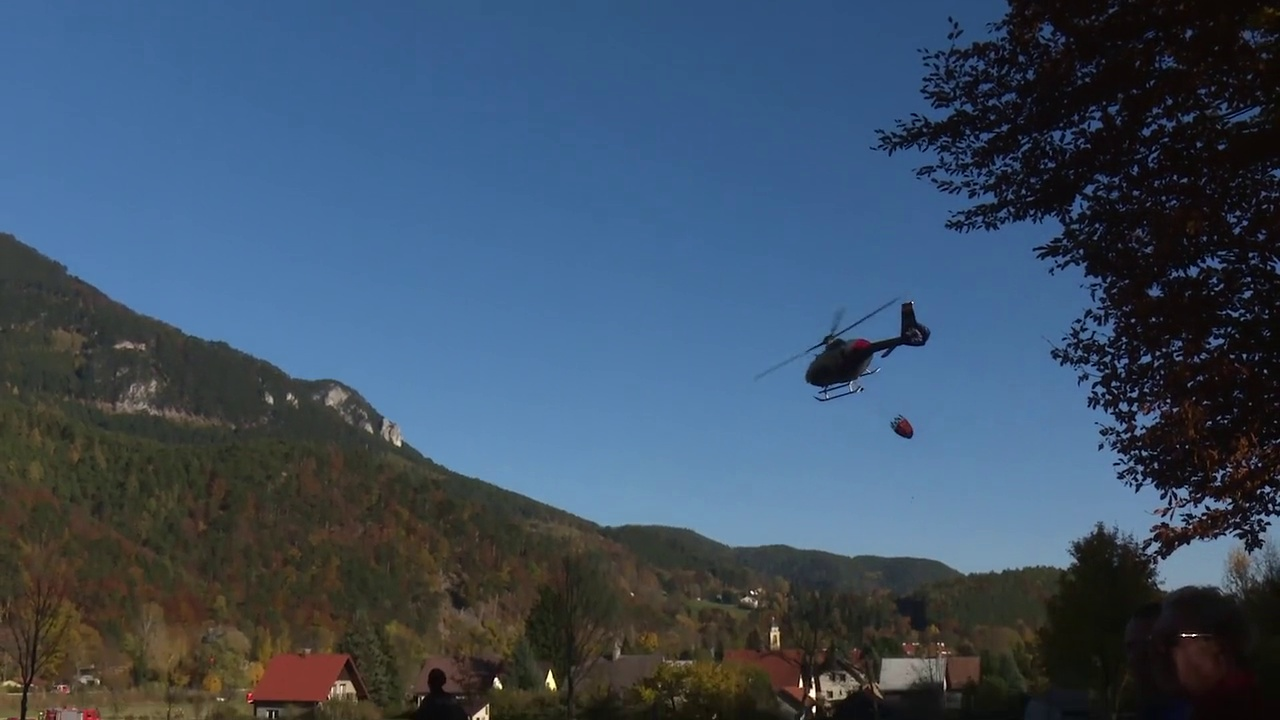heli: (751, 297, 932, 402)
